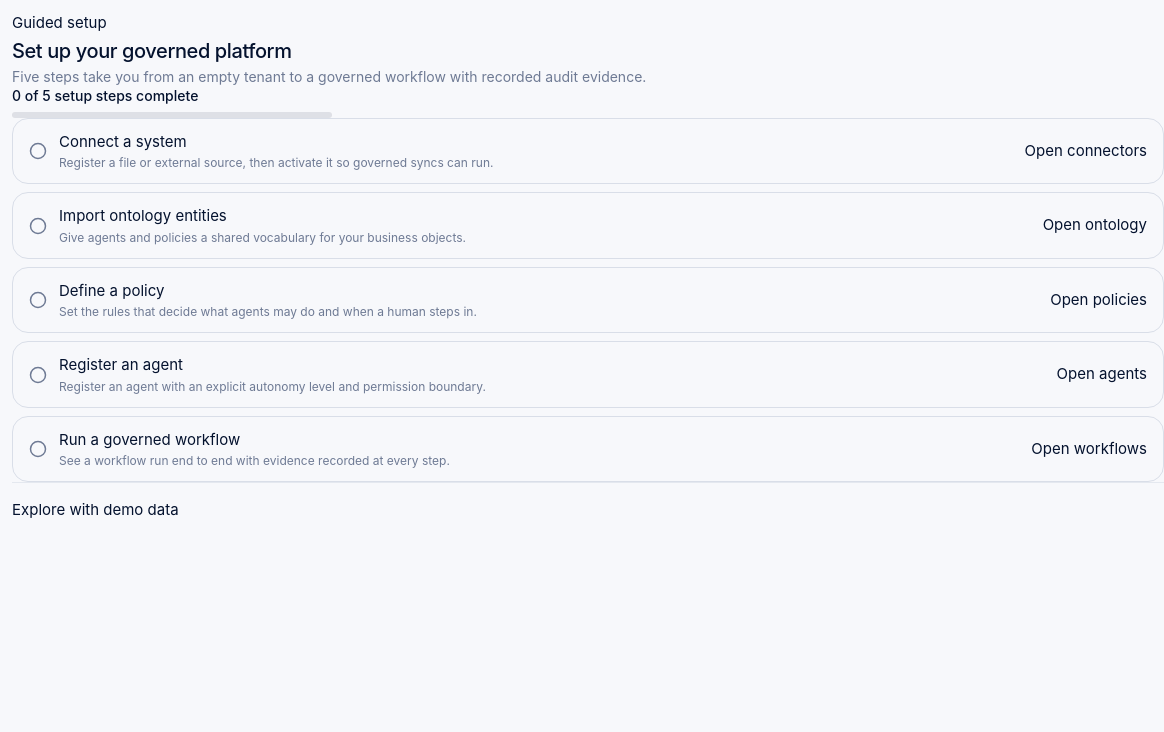
it: PlatformOverview demo bootstrap CTA › renders the bootstrap failure inline on the checklist without refreshing
The width and height of the screenshot is (1164, 732).
Step 1. Click the button "Explore with demo data" → click(95, 511), box [12,499,179,522]
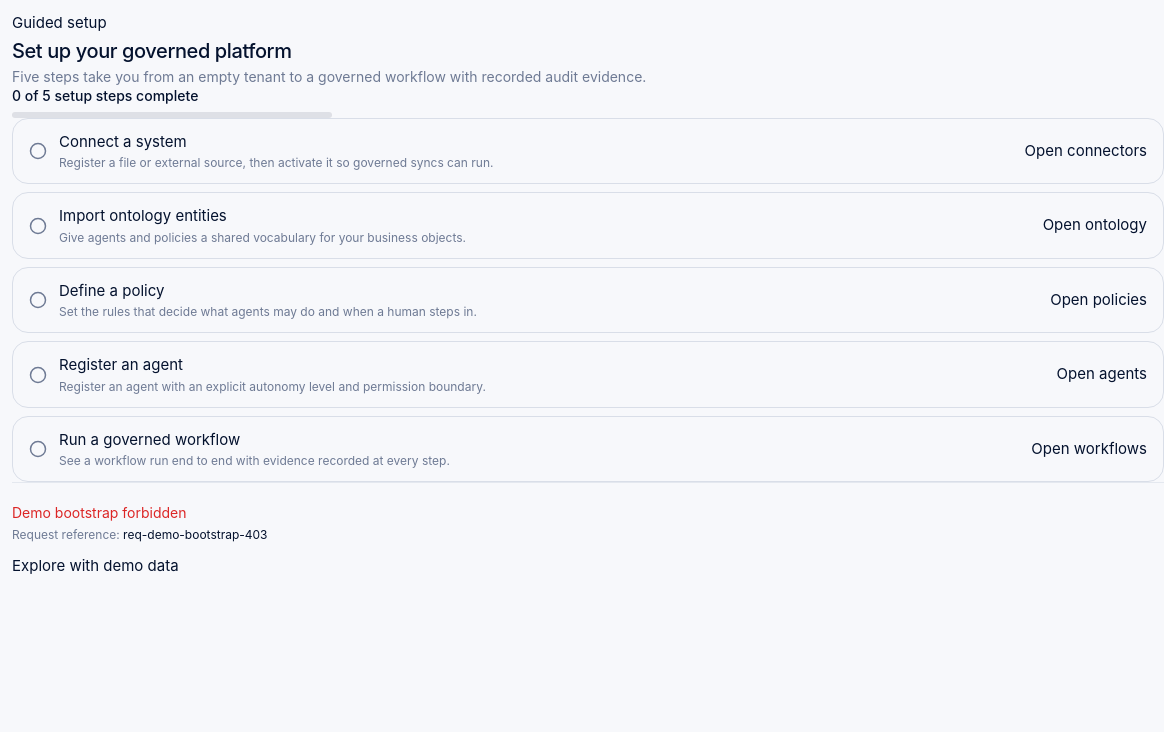
Expected: the button "Explore with demo data" is enabled, [12,555,179,578]
Now the text "Demo bootstrap forbidden" is shown, box [12,504,186,521]
Now the text "req-demo-bootstrap-403" is shown, box [123,526,268,542]
